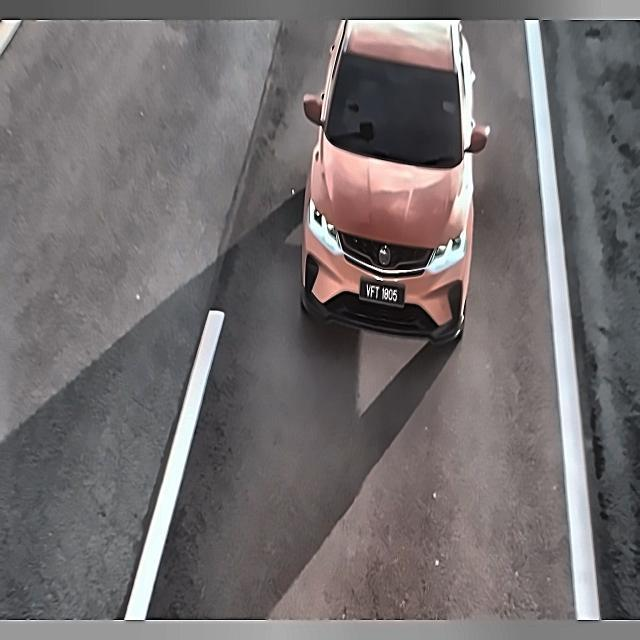car: (356, 272, 412, 314)
